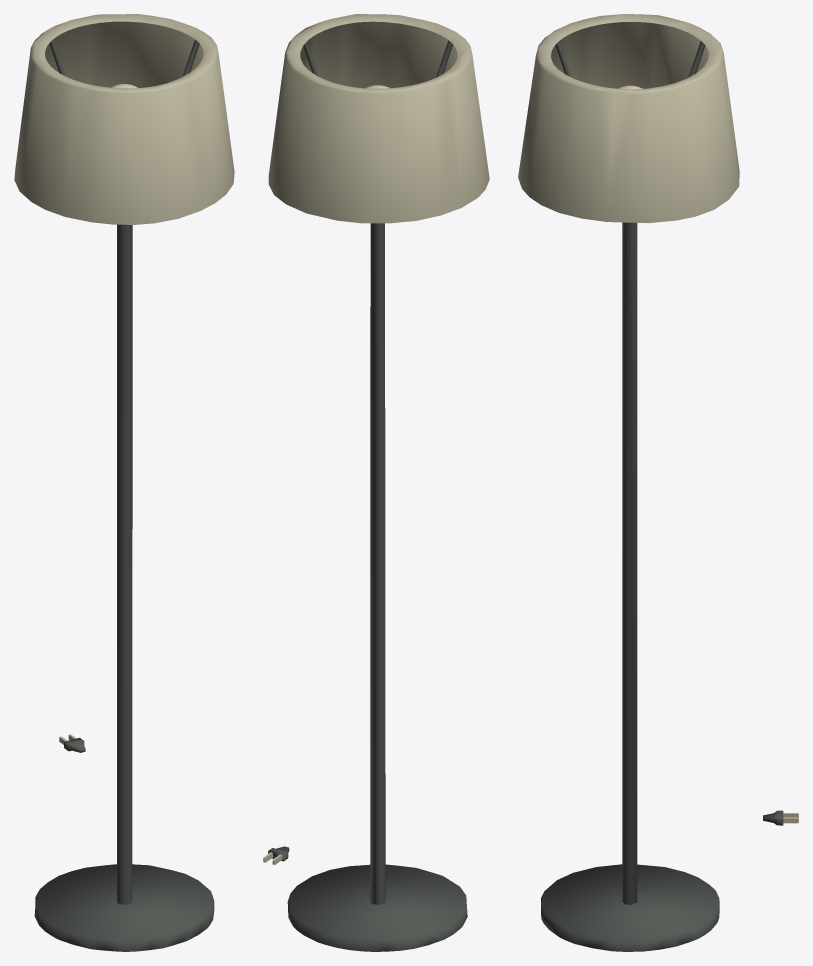
File: lamp.glb
3 renders of one model, left to right at view 1: azimuth 30°, elevation 25°; view 2: azimuth 150°, elevation 25°; view 3: azimuth 270°, elevation 25°, orthographic.
Parts seen in each view (by area): view 1: lamp; view 2: lamp; view 3: lamp.
Part boxes in pixels (x1,y1,x2,y2): lamp: (14, 14, 234, 951); lamp: (263, 14, 489, 951); lamp: (518, 14, 798, 951).
Size of the model in its own units: 0.3796 by 1.65 by 0.4874.
